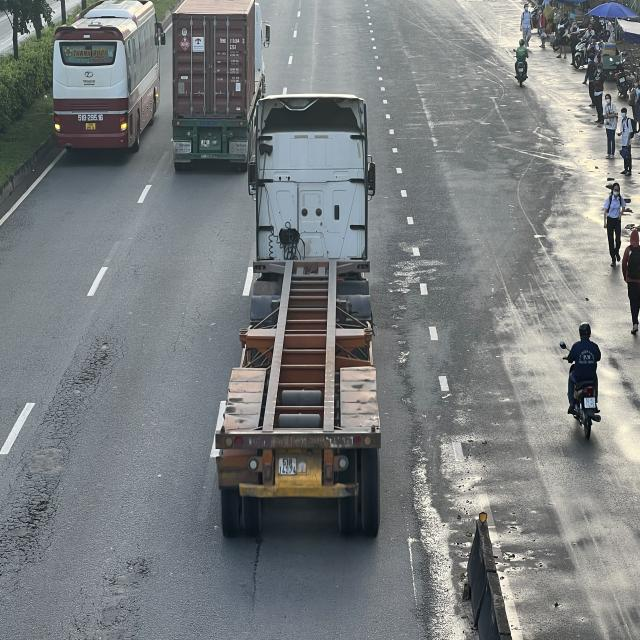coach: (55, 1, 166, 156)
container: (212, 95, 376, 528), (170, 0, 270, 172)
